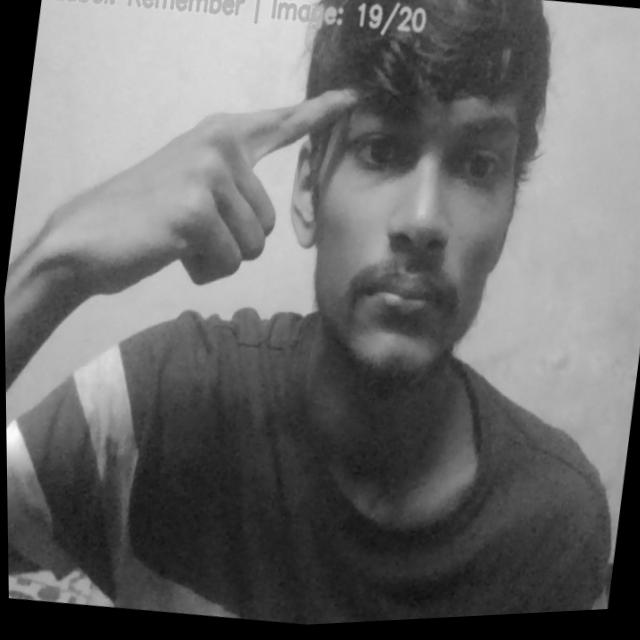Remember: (76, 41, 373, 313)
